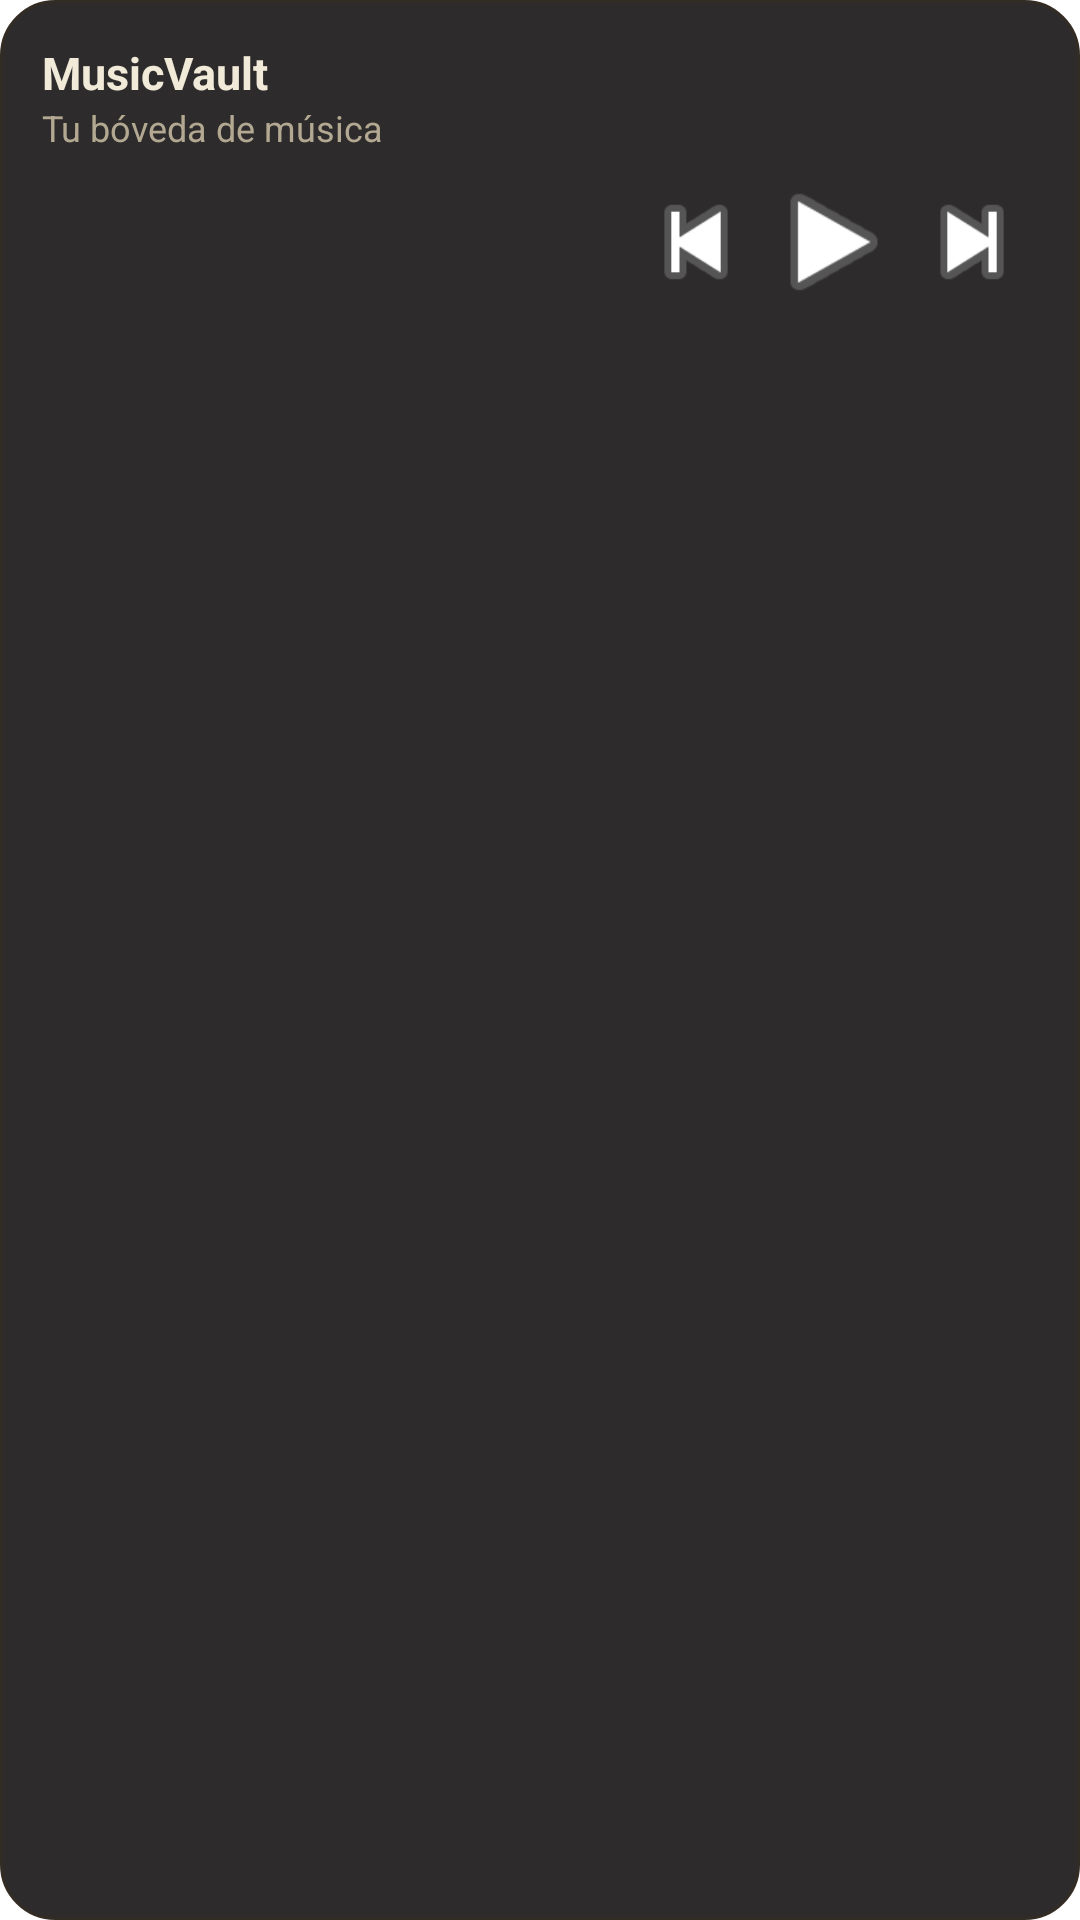

Named icons in this screenshot (1080px×1920px) and their bounding boxes, [x1=x1, y1=y1, x2=x2, y2=y2]:
Anterior: [x1=664, y1=205, x2=728, y2=279]
Reproducir o pausar: [x1=791, y1=194, x2=877, y2=290]
Siguiente: [x1=940, y1=205, x2=1004, y2=279]
